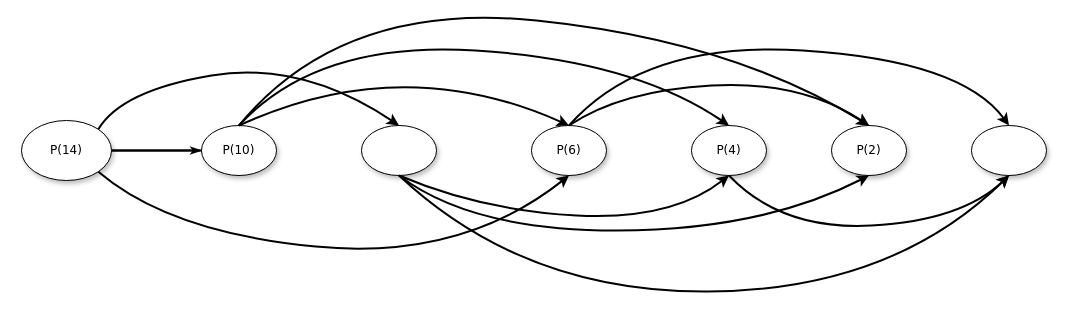
Some shapes in this 1070 by 310 pixel diagram are drawn without their labels. The shapes that lost their labels are listed below. From the top down, each one's centre as x and y in pixels, then its label:
At pixel 399 151: "P(8)".
At pixel 1009 151: "P(0)".
